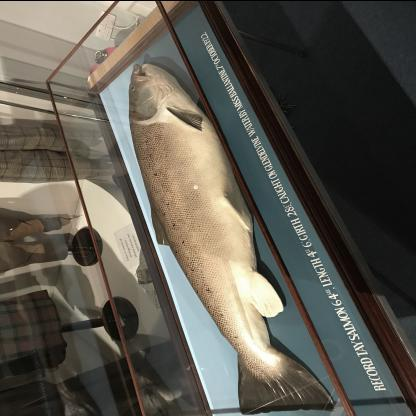fish: (126, 62, 340, 416)
